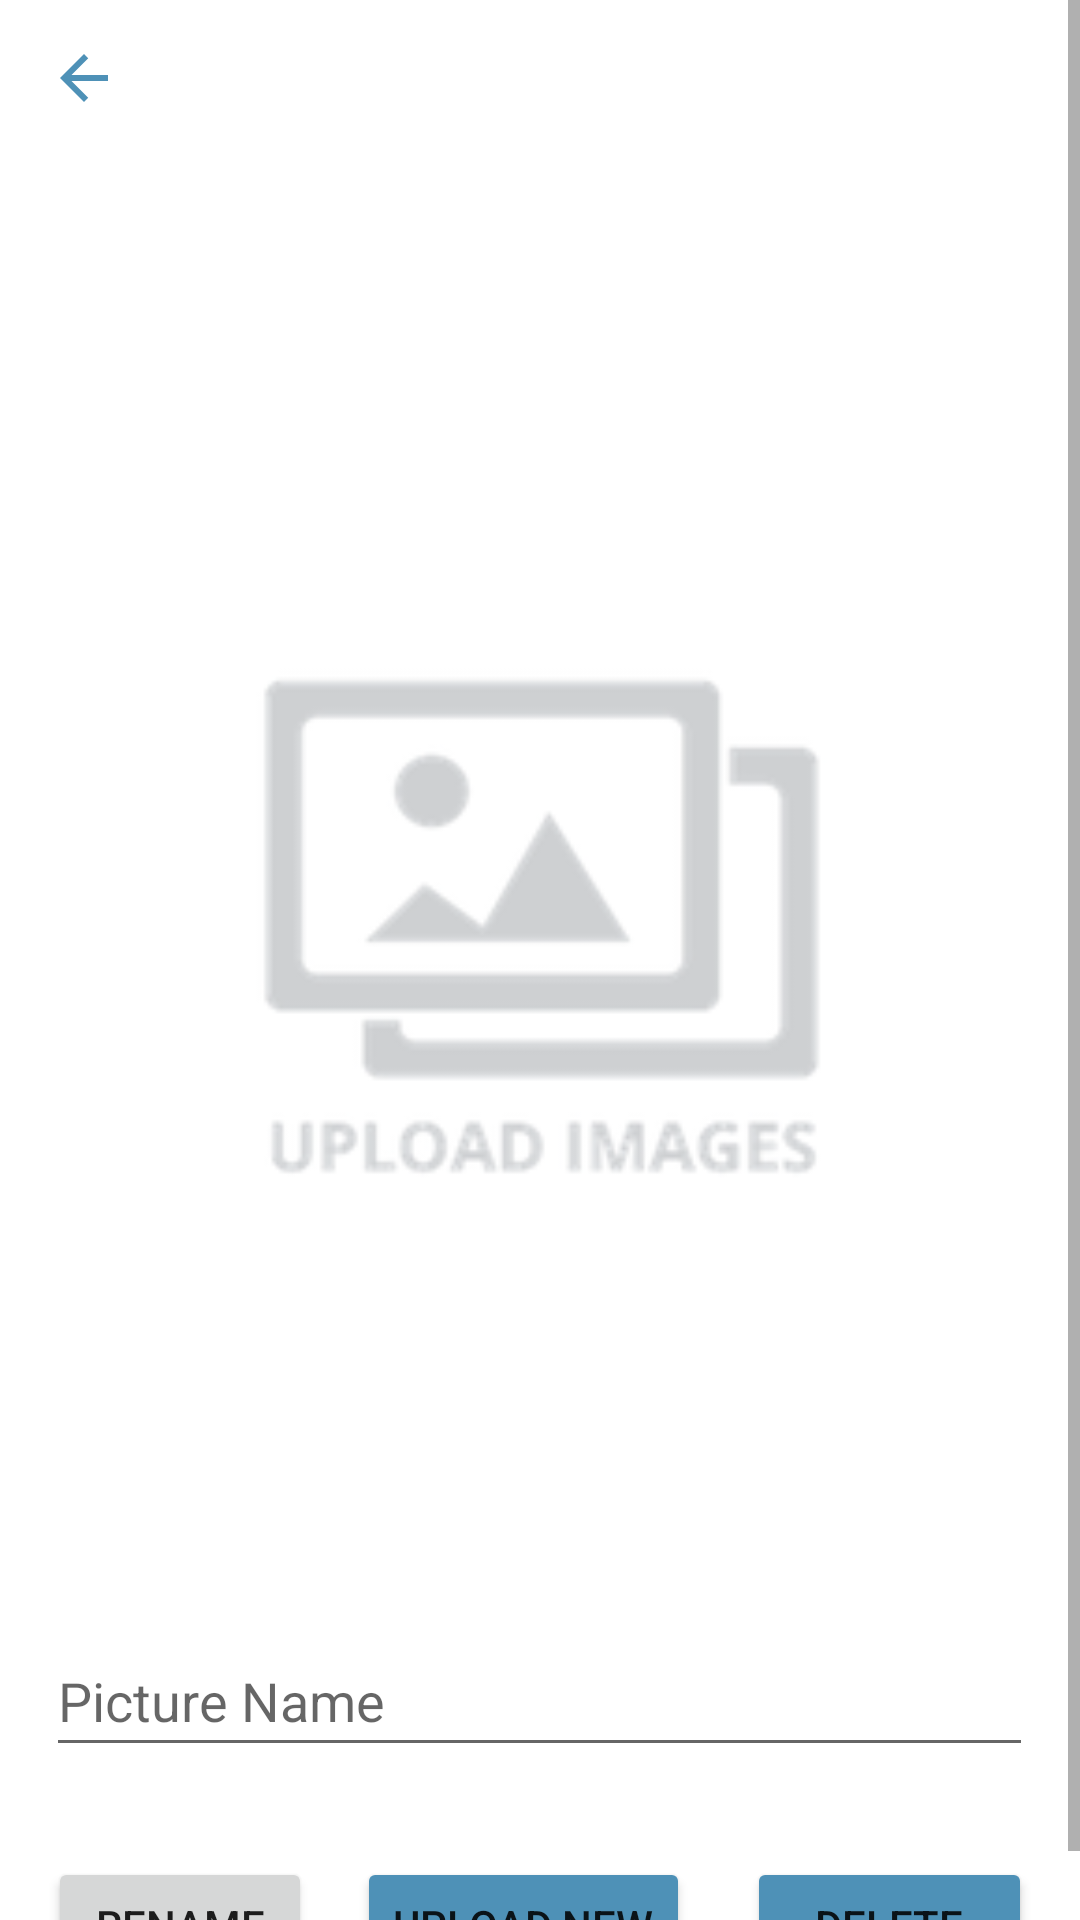

Icon click points for this 1080×1920 phone screenshot, format (x,y):
Return to previous page: (84,78)
